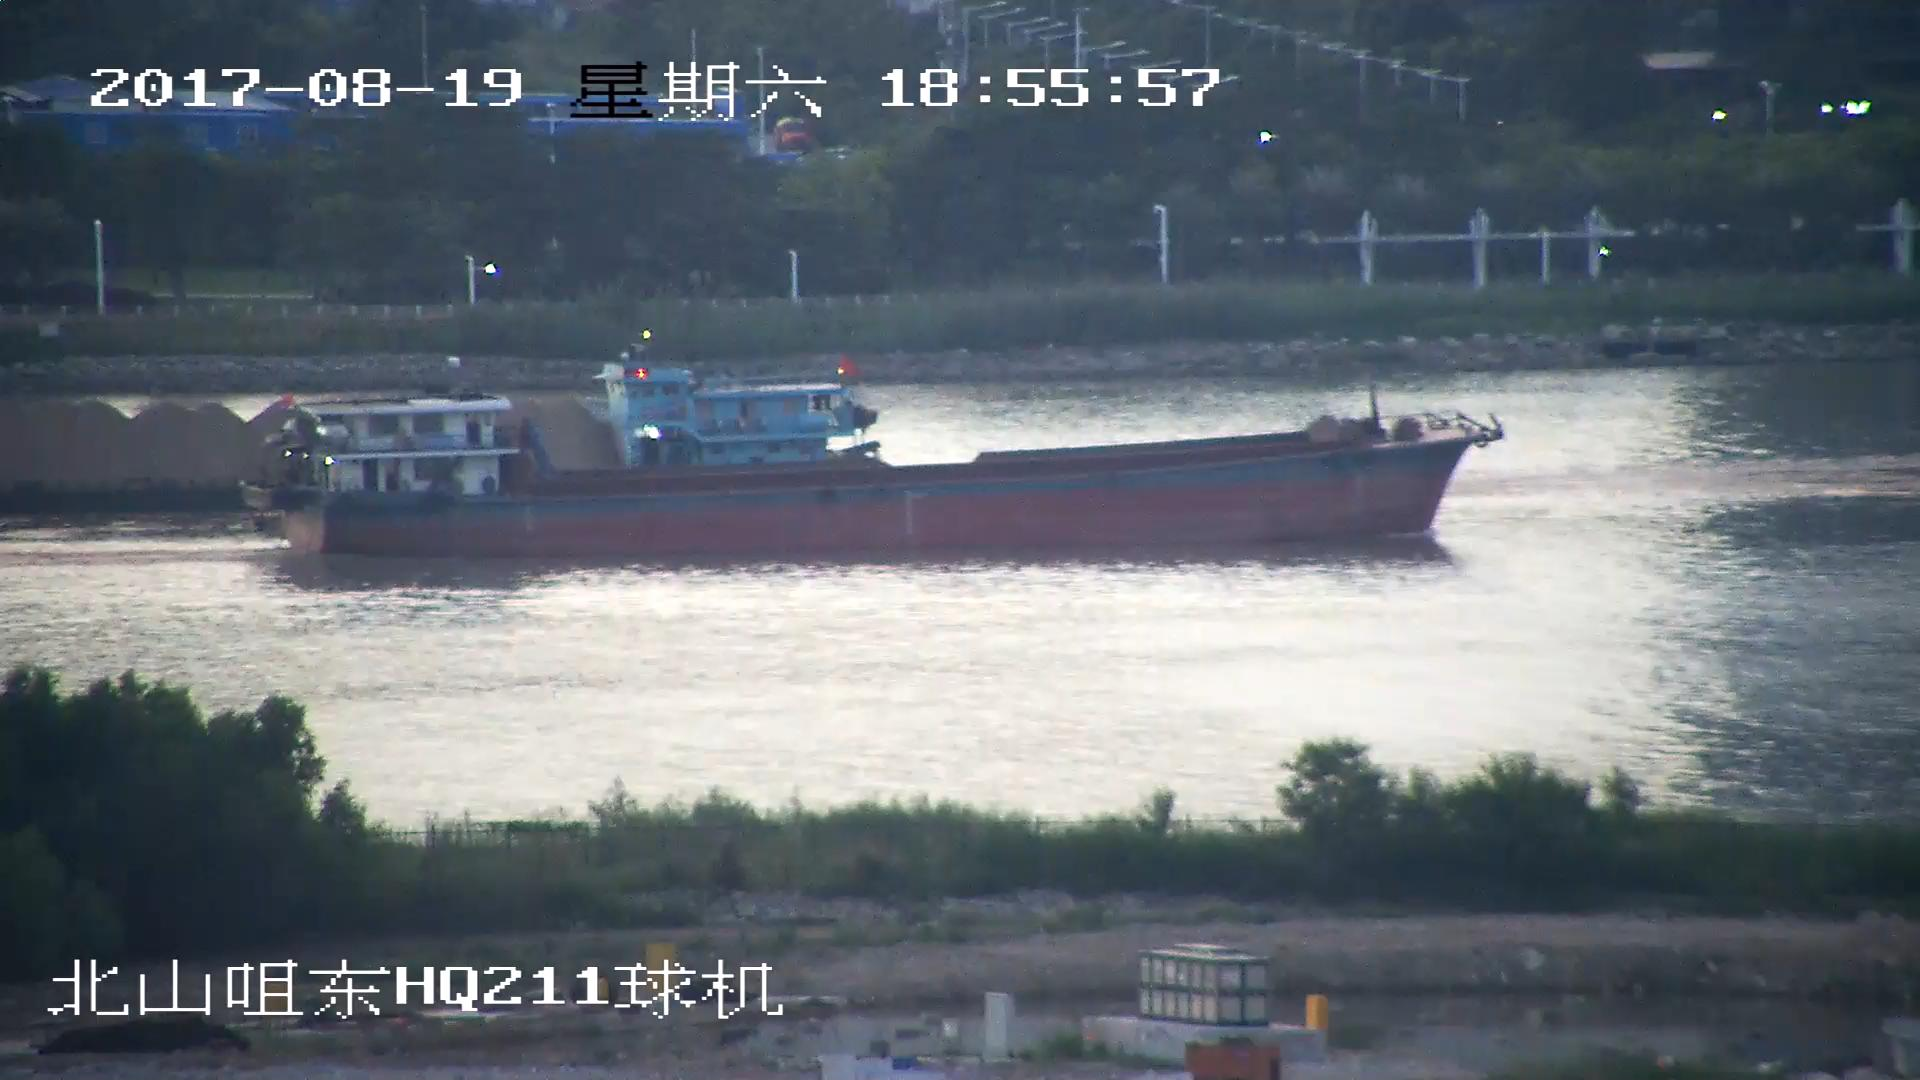bulk cargo carrier: (247, 406, 1508, 557)
ore carrier: (1, 359, 879, 498)
